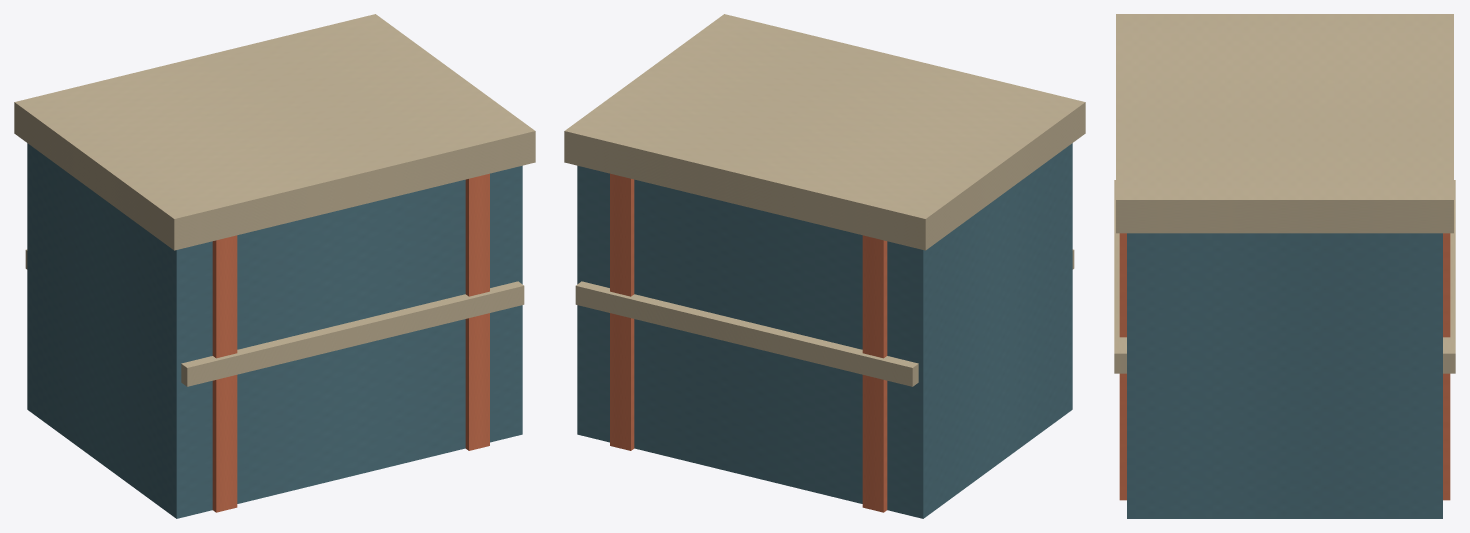
The model's file is atlas100-sailpunk-util02.lod1.glb.
3 views of the same model, side by side, from view 1: azimuth 30°, elevation 25°; view 2: azimuth 150°, elevation 25°; view 3: azimuth 270°, elevation 25° (orthographic). The views are drawn at different scales.
Parts seen in each view (by area): view 1: atlas100-sailpunk-util02:part-000, atlas100-sailpunk-util02:part-005, atlas100-sailpunk-util02:part-004, atlas100-sailpunk-util02:part-001, atlas100-sailpunk-util02:part-002; view 2: atlas100-sailpunk-util02:part-000, atlas100-sailpunk-util02:part-005, atlas100-sailpunk-util02:part-003, atlas100-sailpunk-util02:part-001, atlas100-sailpunk-util02:part-002; view 3: atlas100-sailpunk-util02:part-000, atlas100-sailpunk-util02:part-005, atlas100-sailpunk-util02:part-002, atlas100-sailpunk-util02:part-003, atlas100-sailpunk-util02:part-004.
Boxes of the visible parts, x1,y1,x2,y2 form: atlas100-sailpunk-util02:part-000: [27, 143, 522, 518]; atlas100-sailpunk-util02:part-005: [14, 14, 535, 250]; atlas100-sailpunk-util02:part-004: [181, 281, 524, 386]; atlas100-sailpunk-util02:part-001: [212, 235, 237, 512]; atlas100-sailpunk-util02:part-002: [465, 173, 489, 450]; atlas100-sailpunk-util02:part-000: [577, 143, 1072, 518]; atlas100-sailpunk-util02:part-005: [564, 14, 1085, 250]; atlas100-sailpunk-util02:part-003: [575, 281, 918, 386]; atlas100-sailpunk-util02:part-001: [862, 235, 887, 512]; atlas100-sailpunk-util02:part-002: [610, 173, 634, 450]; atlas100-sailpunk-util02:part-000: [1127, 233, 1442, 518]; atlas100-sailpunk-util02:part-005: [1116, 14, 1453, 233]; atlas100-sailpunk-util02:part-002: [1119, 233, 1450, 500]; atlas100-sailpunk-util02:part-003: [1443, 180, 1455, 373]; atlas100-sailpunk-util02:part-004: [1114, 180, 1126, 373].
Size of the model in its own units: 1.28 by 1.04 by 0.9942.
3 materials, 3 textured.
